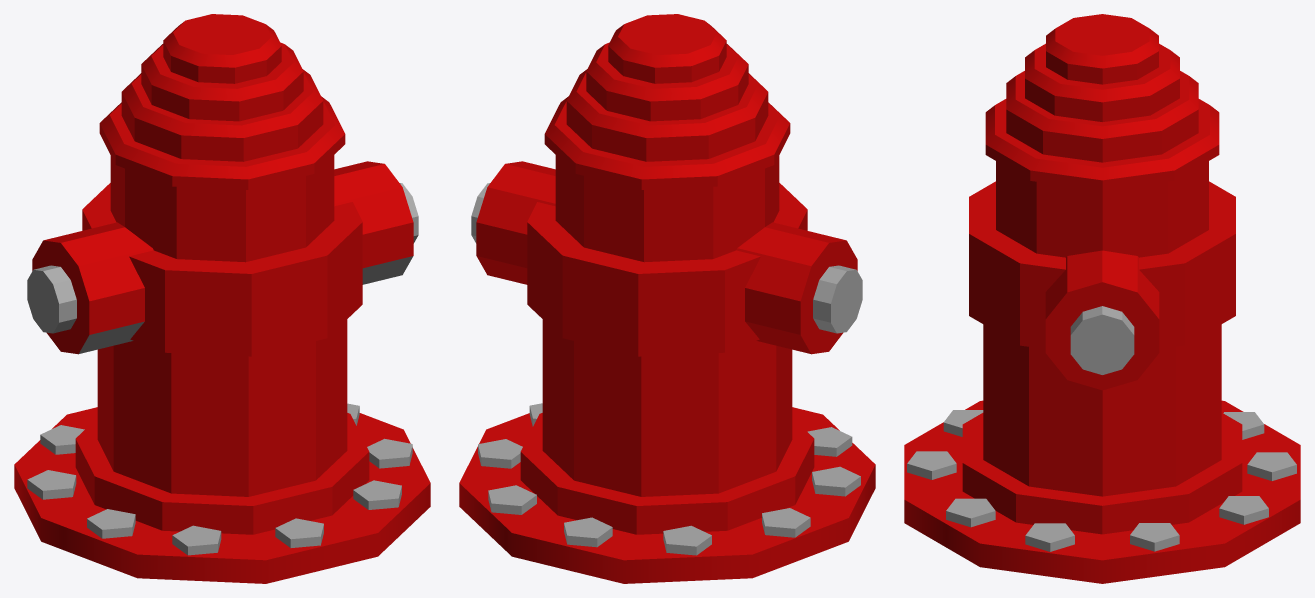
Rendered from Gidrant.fbx.
The picture shows the model from 3 angles, left to right: view 1: azimuth 30°, elevation 25°; view 2: azimuth 150°, elevation 25°; view 3: azimuth 270°, elevation 25°; orthographic projection.
Parts seen in each view (by area): view 1: Gidrant; view 2: Gidrant; view 3: Gidrant.
Part boxes in pixels (x1,y1,x2,y2): Gidrant: (14,14,430,583); Gidrant: (459,14,875,583); Gidrant: (904,14,1300,583).
Bounding box in the file's own units: 1.52 × 1.86 × 1.45.
